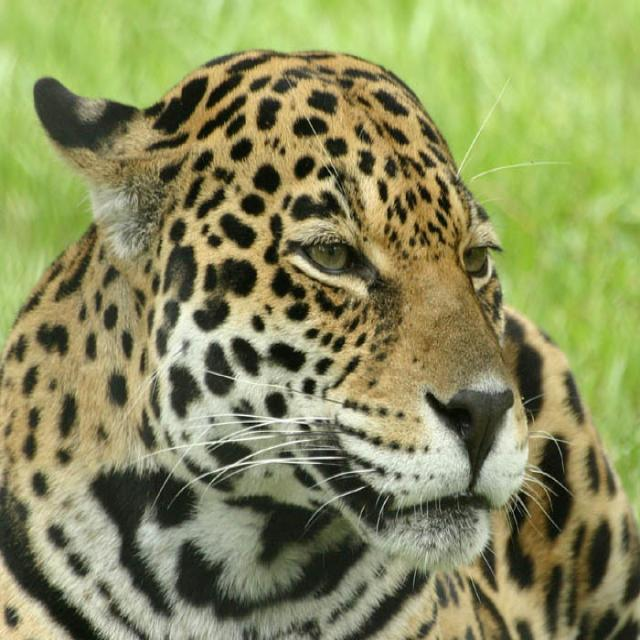Leopard: (0, 44, 637, 636)
